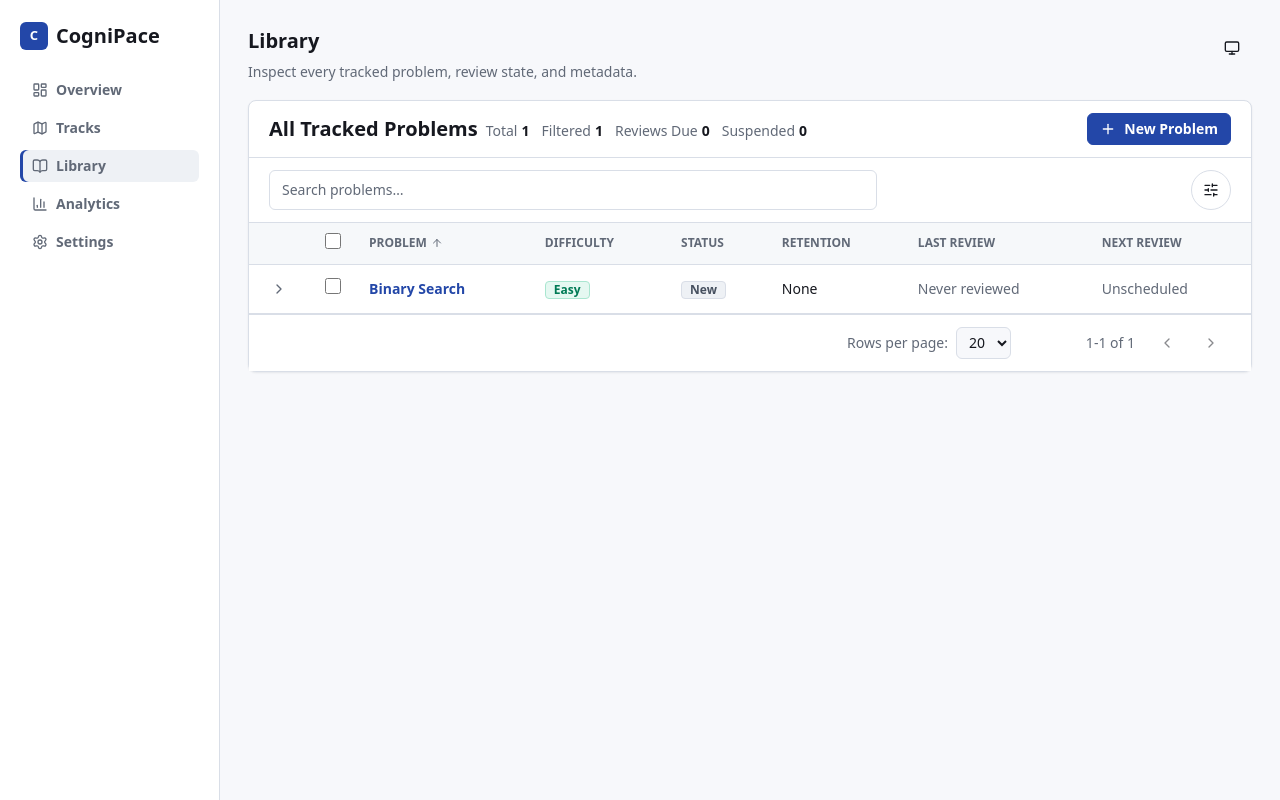
dashboard routes › creates a track from selected Library rows
Expected: the heading "Library" is shown, [248,27,319,54]
Click the checkbox named "Select Binary Search" at (333, 286), box [325,278,341,294]
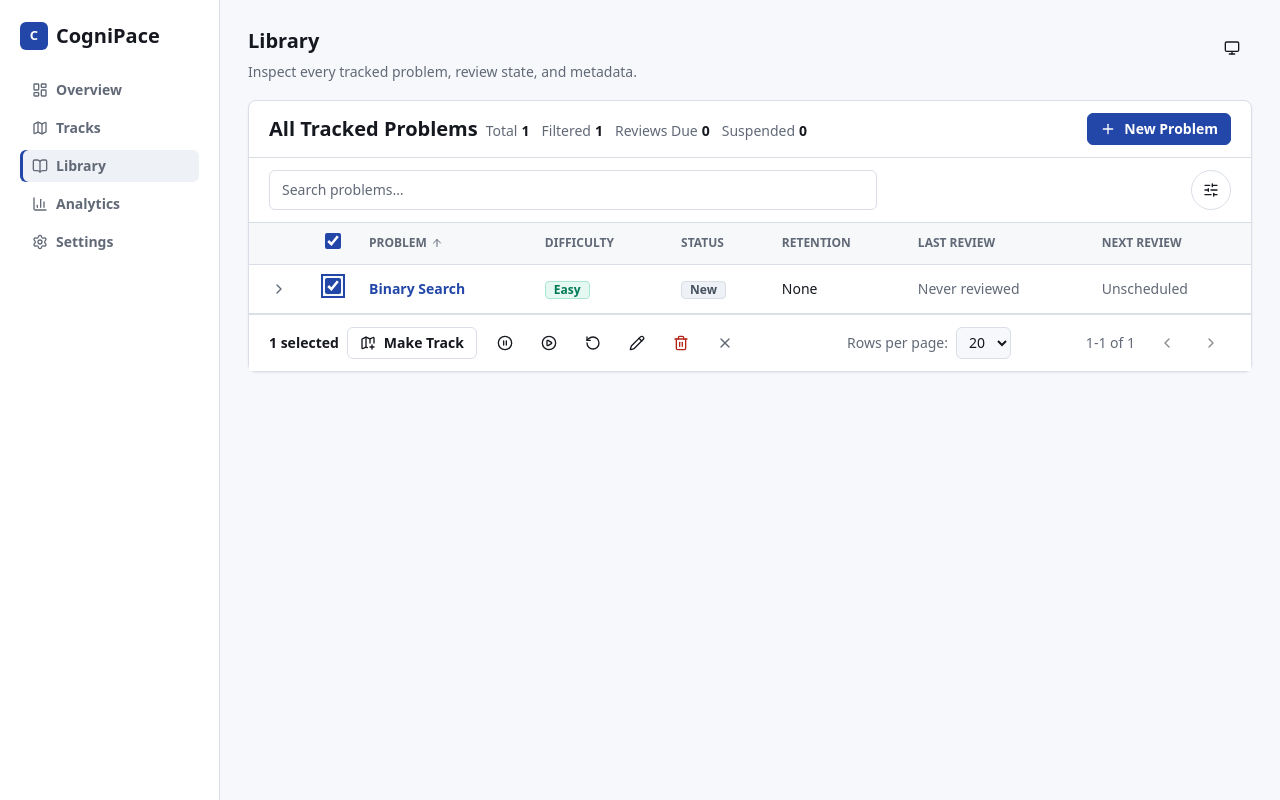
Click the button "Make Track" at (412, 343), box [347,327,477,359]
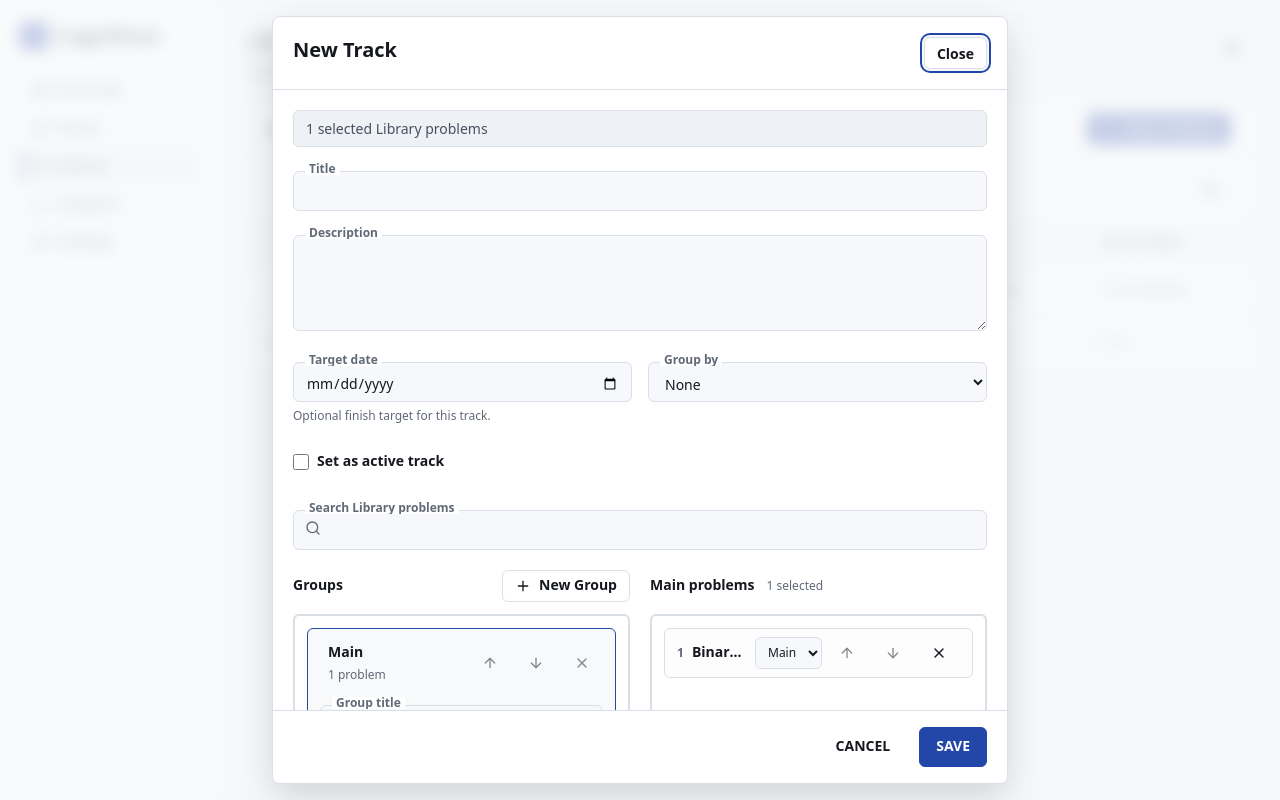
Expected: the text "1 selected Library problems" is shown, [293,110,987,147]
Expected: the list item with aria-label "1. Binary Search" is shown, [664,628,973,678]
